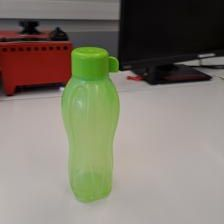bottle: (62, 44, 119, 204)
